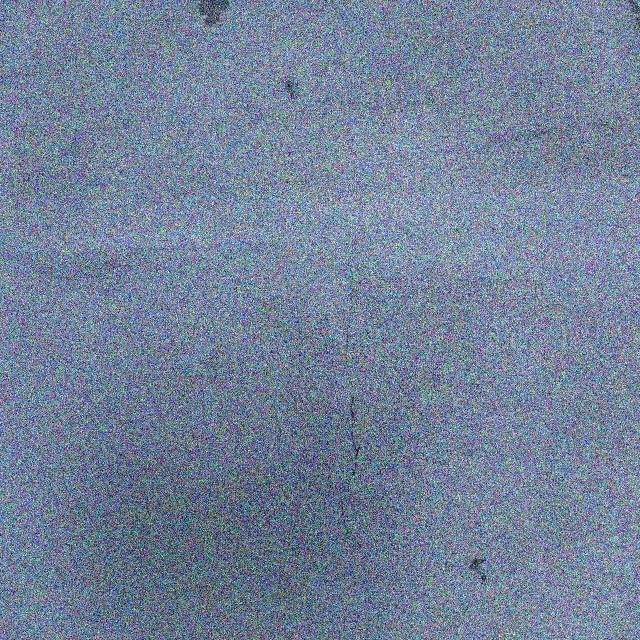SurfaceCrack: (311, 193, 409, 639)
